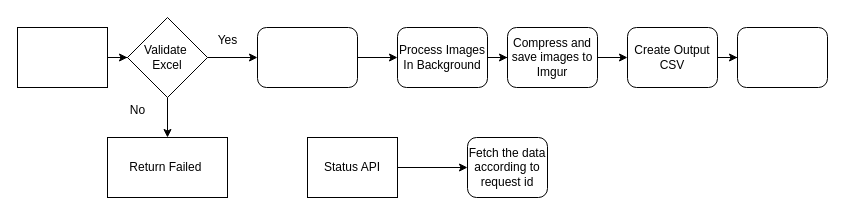
Image size: 845x215. Some labels were removed from this diagram. Each missing label, with the centre of its shape:
Call Webhook: pixel 782 57
Send Response with Generated Request ID: pixel 307 57
Upload API: pixel 62 57
